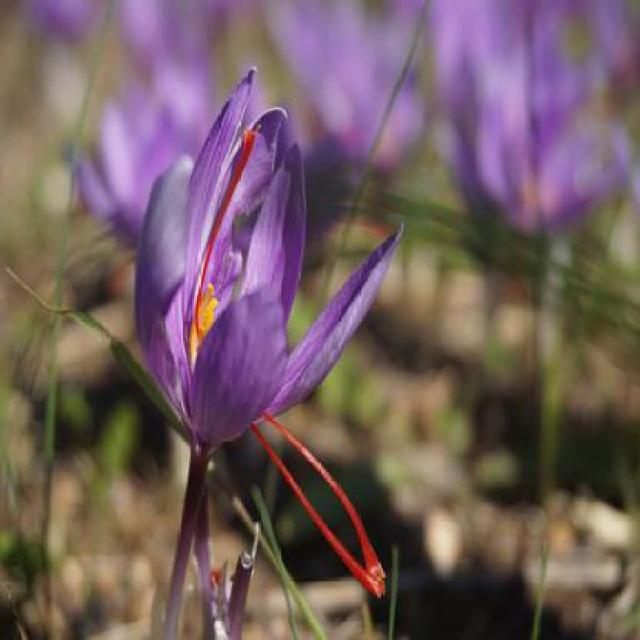Flower: (122, 62, 403, 476)
stigma: (249, 419, 383, 592), (271, 400, 408, 568), (196, 127, 258, 287)
